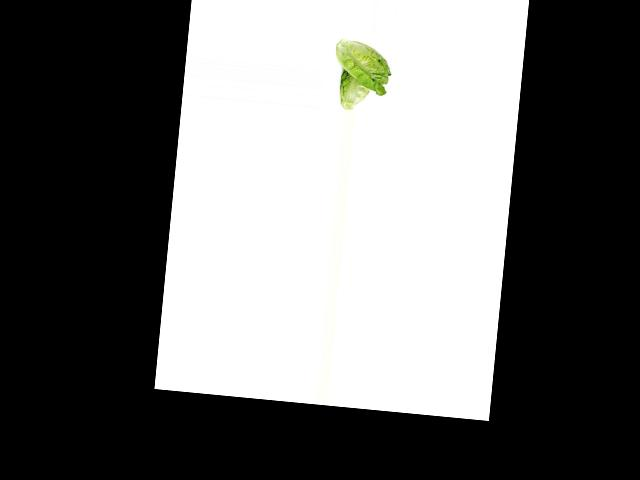lettuce: (334, 69, 373, 113)
